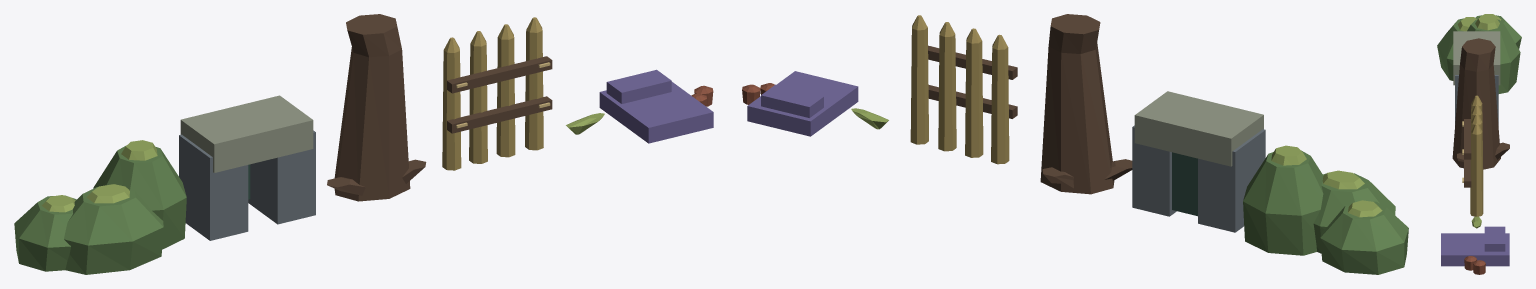
File: ina-sayu-route-model.obj
3 renders of one model, left to right at view 1: azimuth 30°, elevation 25°; view 2: azimuth 150°, elevation 25°; view 3: azimuth 270°, elevation 25°, orthographic. The views are drawn at different scales.
Parts seen in each view (by area): view 1: ForestCover; view 2: ForestCover; view 3: ForestCover.
Boxes of the visible parts, <box> form: ForestCover: <box>14,14,713,274</box>; ForestCover: <box>742,14,1408,274</box>; ForestCover: <box>1437,14,1521,274</box>.
Bounding box in the file's own units: 8.24 × 1.84 × 1.26.
